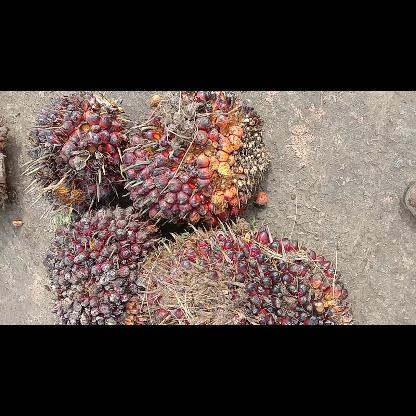Kurang masak: (136, 220, 356, 324), (42, 204, 164, 324)
TBS masak: (124, 92, 272, 233), (21, 91, 133, 213)
